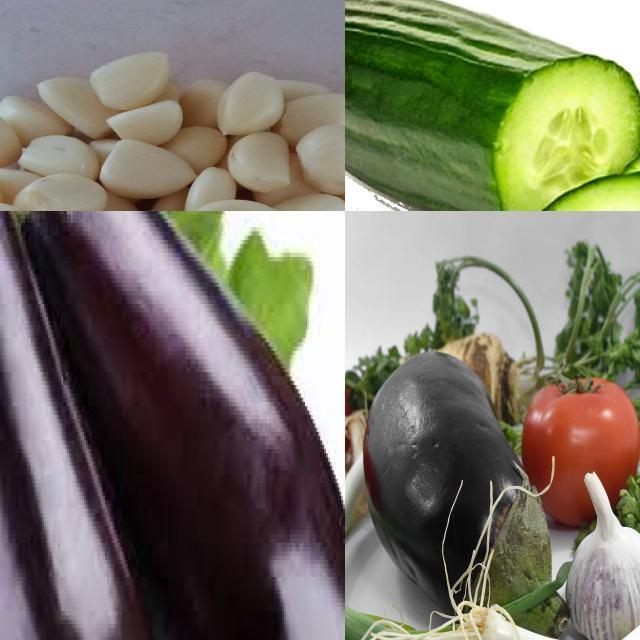cucumber: (346, 1, 640, 212)
eggplant: (3, 212, 346, 640), (1, 212, 142, 640), (369, 347, 573, 640)
garlic: (1, 50, 346, 212), (572, 490, 640, 640)
tomato: (521, 371, 640, 521)
